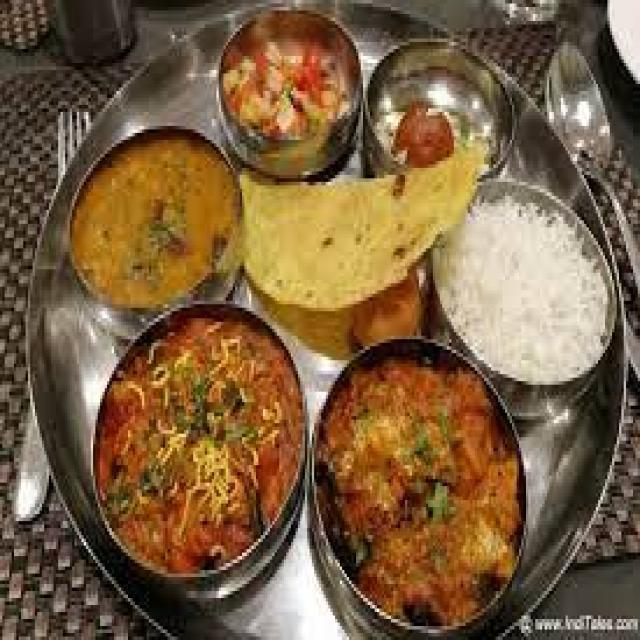dal: (56, 123, 229, 323)
rice: (438, 179, 616, 401)
roti: (249, 149, 431, 332)
sweet: (380, 85, 476, 186)
veg: (86, 305, 299, 598)
